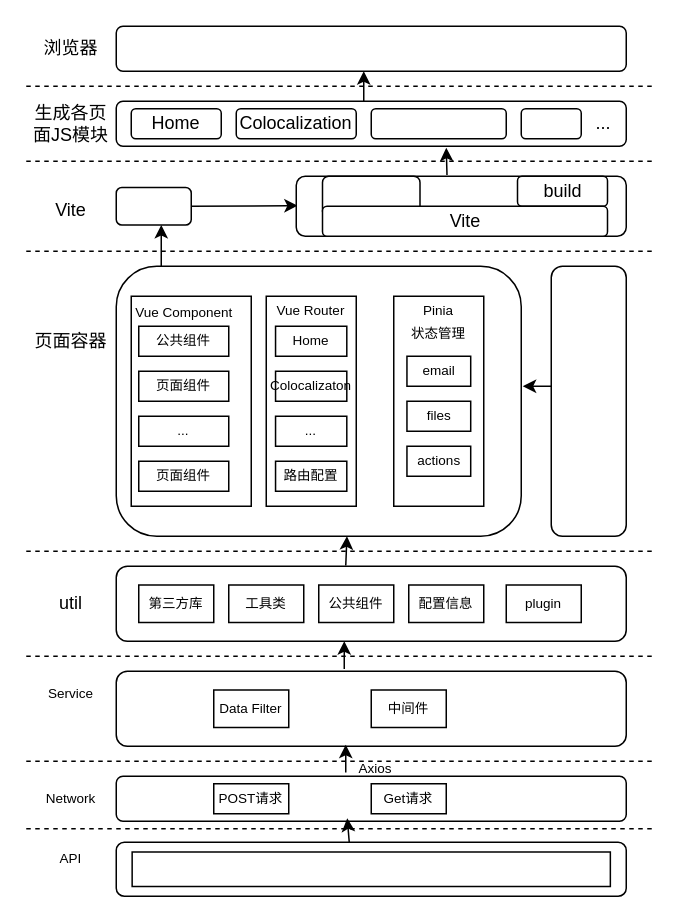
The diagram is 684 pixels wide and 923 high, and some of its shapes have lost their labels. Each missing label, with the centre of its shape:
dev: point (370, 196)
Finemapping: point (438, 123)
HTML/JS/CSS(单页面应用，各模块按需加载): point (370, 48)
main.js: point (153, 205)
TWAS: point (550, 123)
UI 组件库: point (588, 400)
后台接口: point (370, 868)
